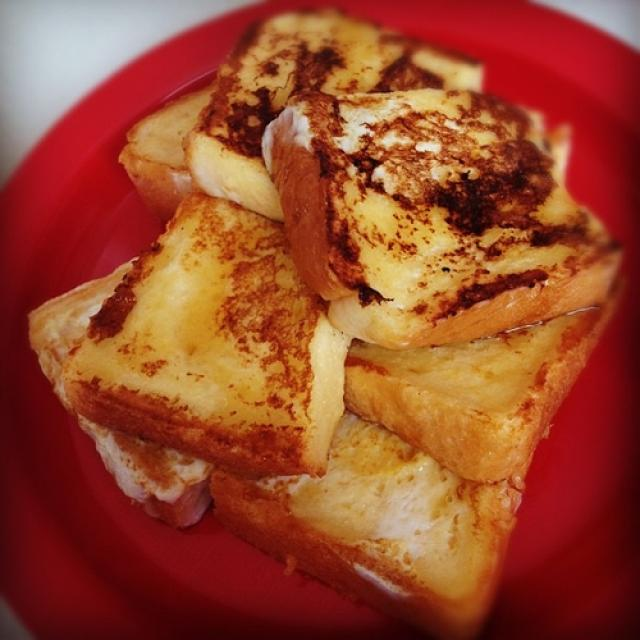面包点心: (15, 10, 626, 621)
